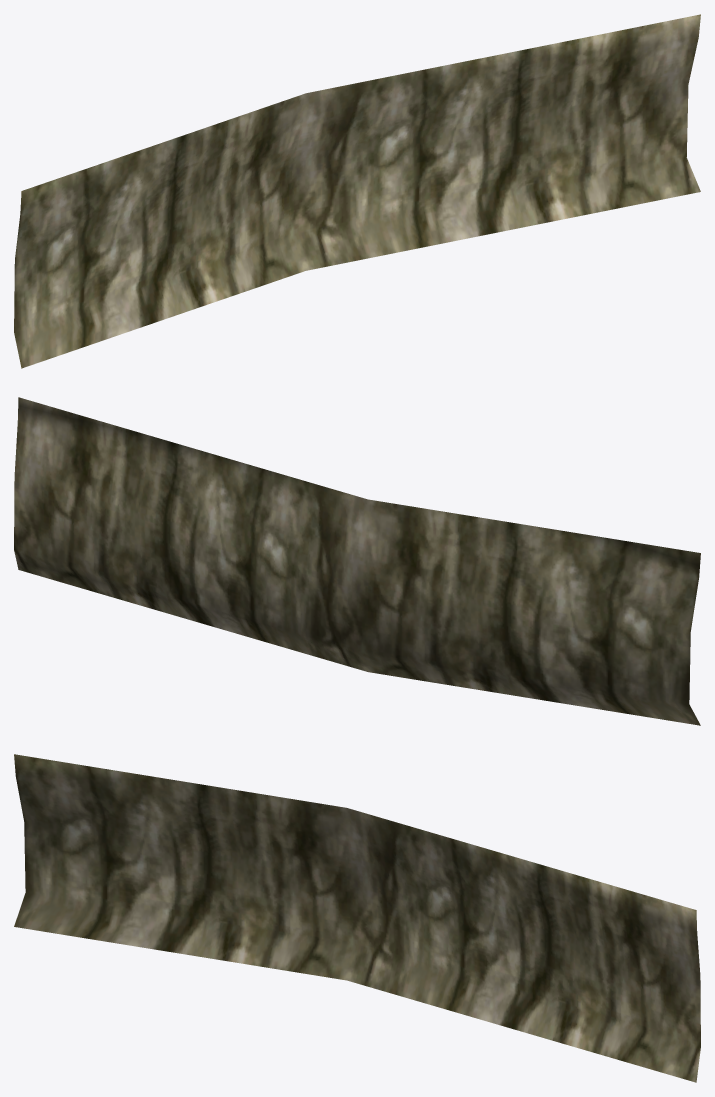
File: CB_NEWPLAYSURFACE_CB_PLAYSURFACE120.fbx
The picture shows the model from 3 angles, top to bottom: view 1: azimuth 30°, elevation 25°; view 2: azimuth 150°, elevation 25°; view 3: azimuth 330°, elevation 25°; orthographic projection. The views are drawn at different scales.
Parts seen in each view (by area): view 1: CB_NEWPLAYSURFACE_CB_PLAYSURFACE120; view 2: CB_NEWPLAYSURFACE_CB_PLAYSURFACE120; view 3: CB_NEWPLAYSURFACE_CB_PLAYSURFACE120.
Part boxes in pixels (left/top/right/bottom): CB_NEWPLAYSURFACE_CB_PLAYSURFACE120: left=14, top=14, right=700, bottom=368; CB_NEWPLAYSURFACE_CB_PLAYSURFACE120: left=14, top=397, right=700, bottom=725; CB_NEWPLAYSURFACE_CB_PLAYSURFACE120: left=14, top=754, right=700, bottom=1082.
Bounding box in the file's own units: 162815 × 40000 × 15857.
Materials: 2 (2 with a texture image).
